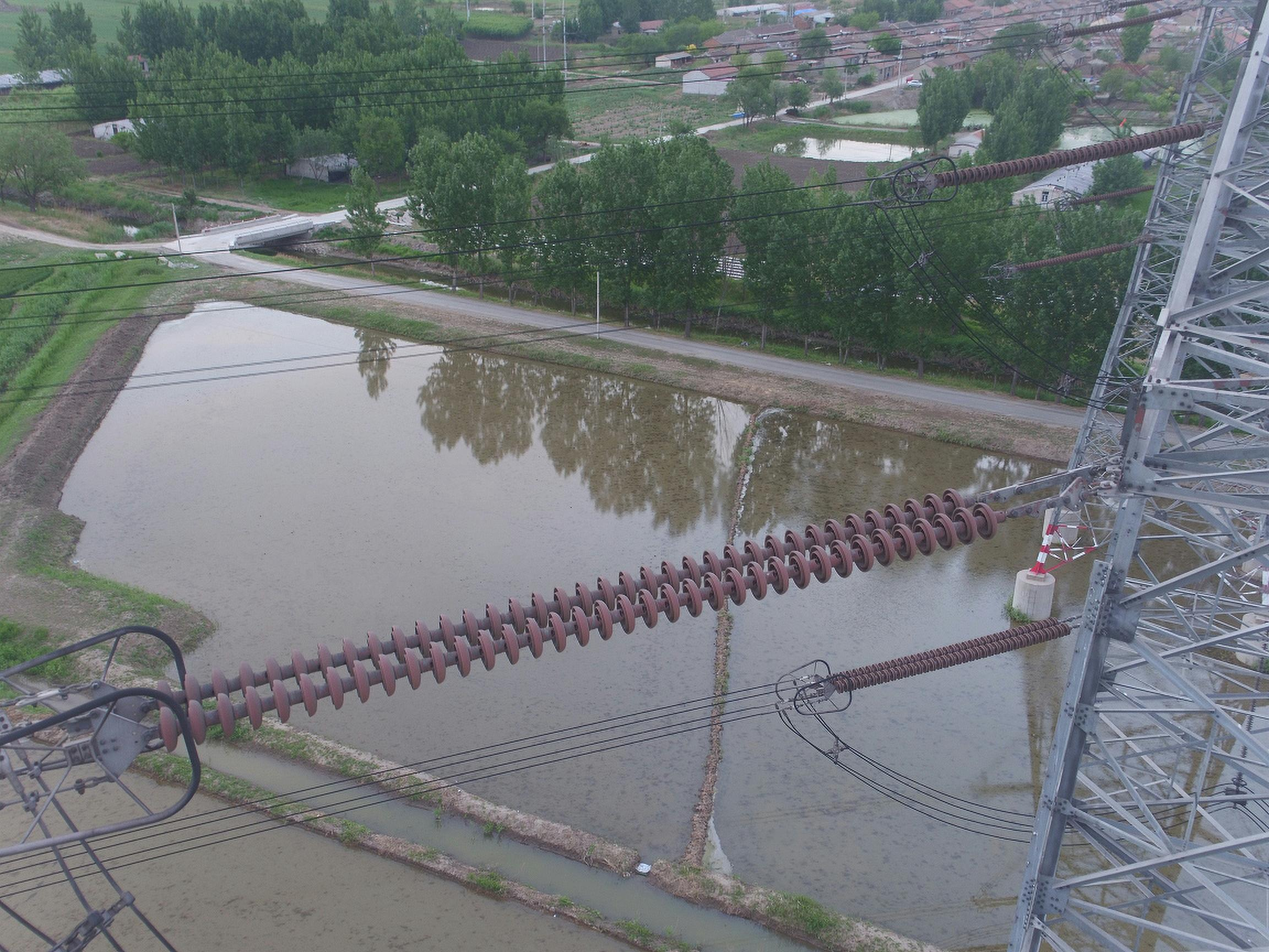insulator: (147, 484, 1001, 756), (825, 615, 1073, 695), (933, 120, 1207, 188), (1064, 7, 1184, 39), (1015, 241, 1125, 273), (1071, 183, 1156, 207)
